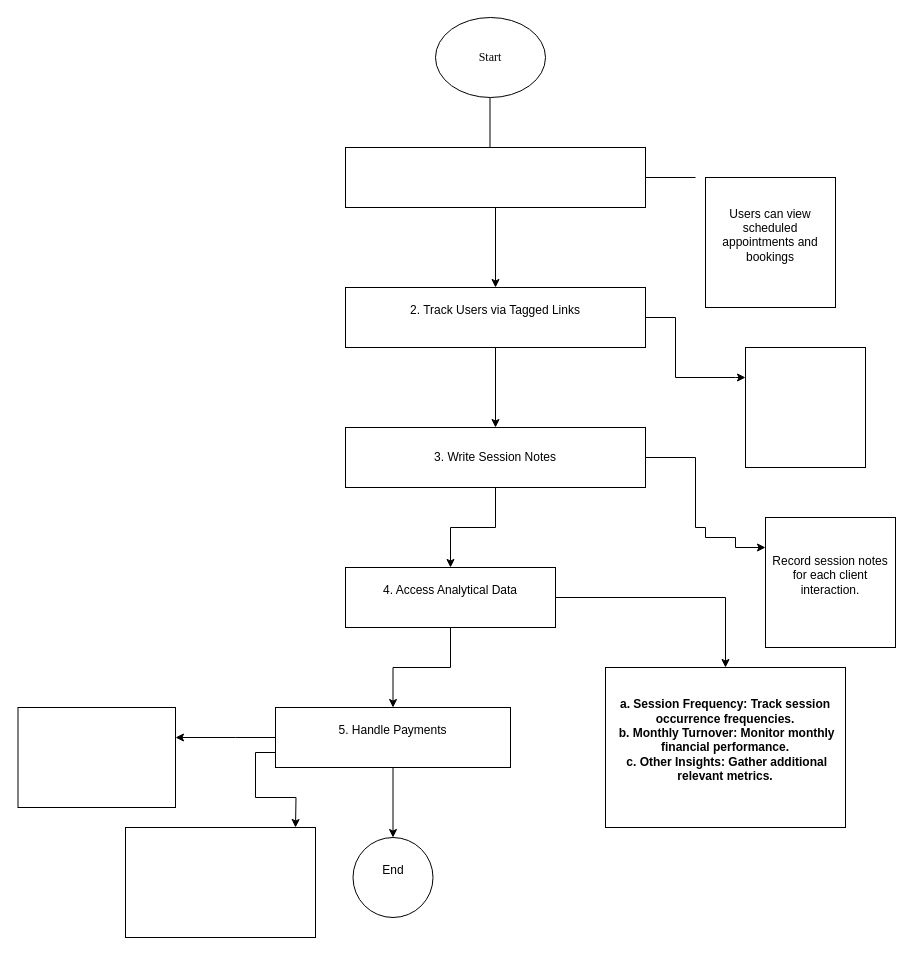
The diagram is 913 pixels wide and 955 high, and some of its shapes have lost their labels. The centre of each missing label's shape, as x and y in pixels:
1. View Upcoming Bookings: (495,177)
Collect and process payments securely: (96,757)
Deposit funds directly into client accounts.: (220,882)
Monitor traffic and user behavior from tagged links.: (805,407)
